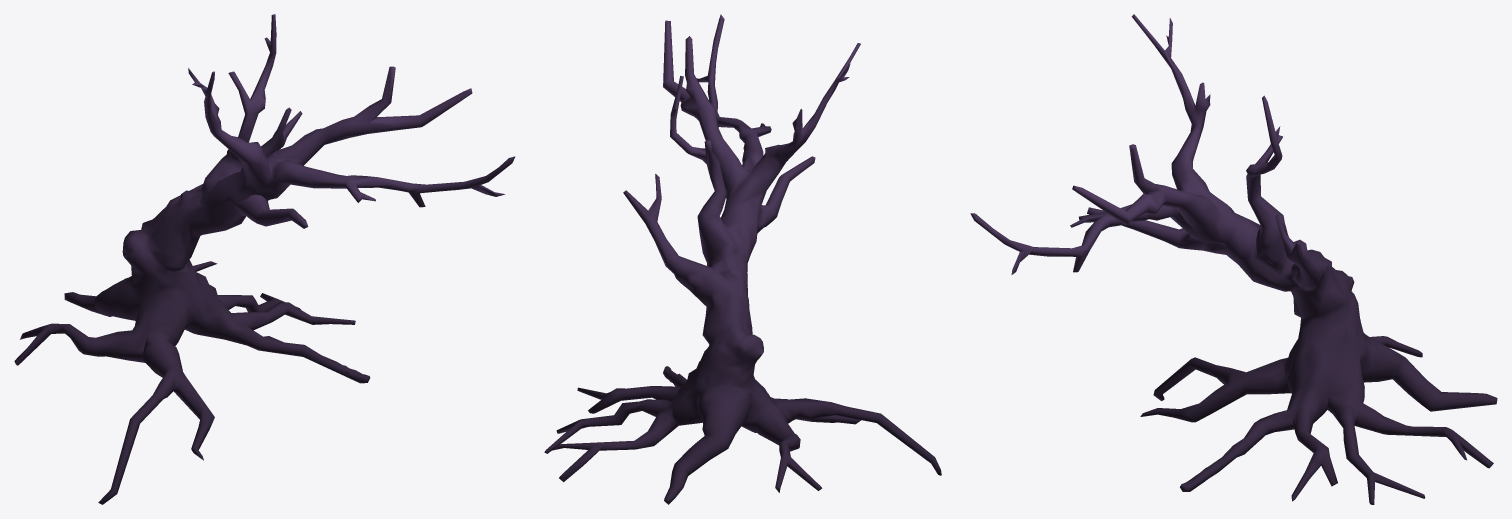
File: tree_L2.fbx
3 views of the same model, side by side, from view 1: azimuth 30°, elevation 25°; view 2: azimuth 150°, elevation 25°; view 3: azimuth 270°, elevation 25° (orthographic). The views are drawn at different scales.
Visible parts, largest first — view 1: tree_L2; view 2: tree_L2; view 3: tree_L2.
Part boxes in pixels (x1,y1,x2,y2): tree_L2: (14,14,515,504); tree_L2: (544,14,941,504); tree_L2: (970,14,1497,504).
Bounding box in the file's own units: 594 × 712 × 779.
